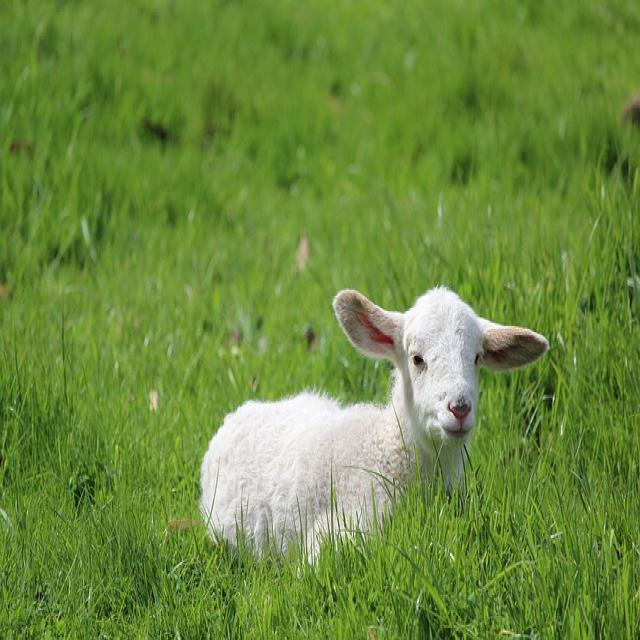goat: (199, 287, 549, 565)
